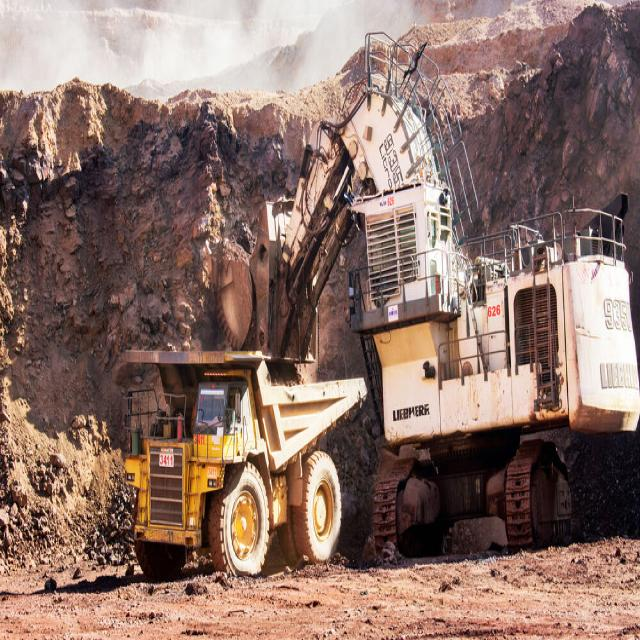dump_truck: (104, 345, 369, 606)
excavator: (202, 18, 640, 560)
